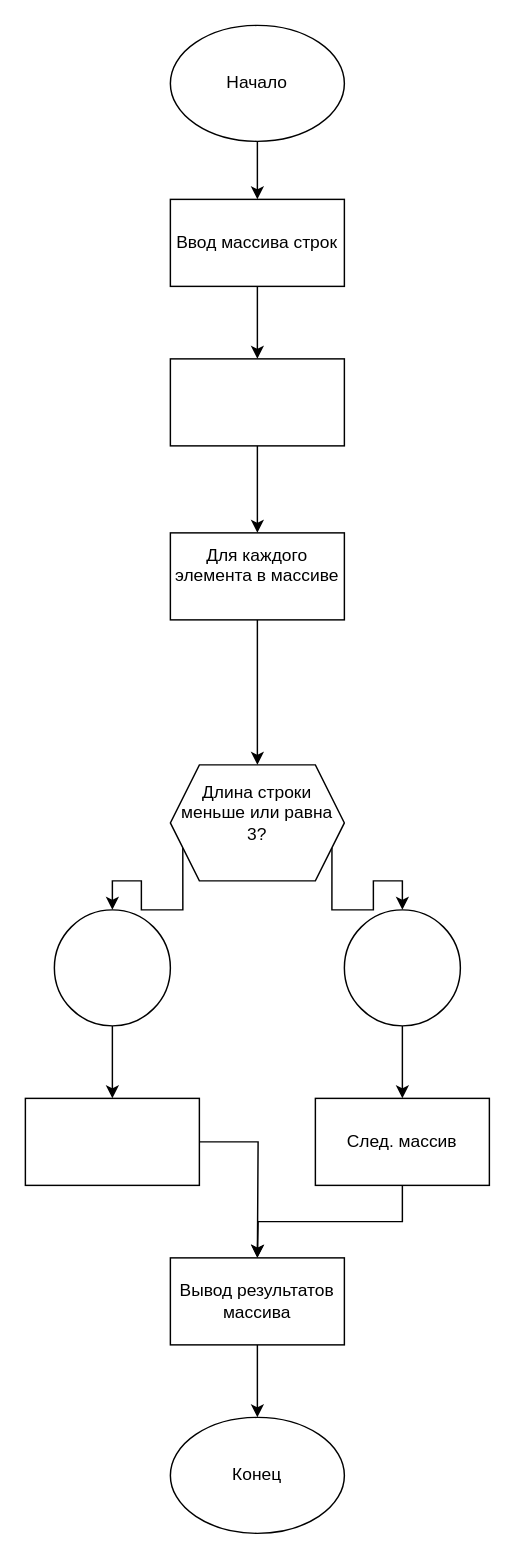
This 515x1559 diagram has some shape labels left out. The shapes that lost their labels are listed below. From the top down, each one's box as (x1, y1, x2, y2) in pixels, then its label:
(169, 357, 344, 446): Создание пустого массива для результатов
(53, 908, 170, 1026): да
(343, 908, 460, 1026): нет
(24, 1097, 199, 1185): Добавить в массив
